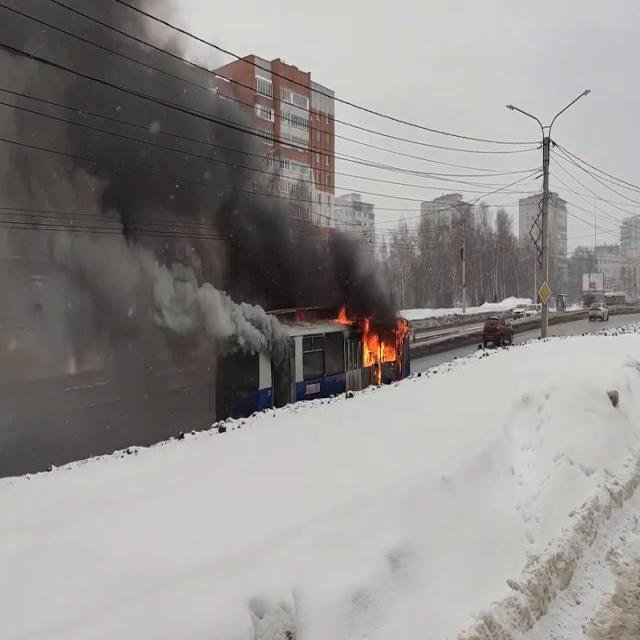Fire: (359, 321, 401, 375)
Smoke: (1, 1, 400, 323)
